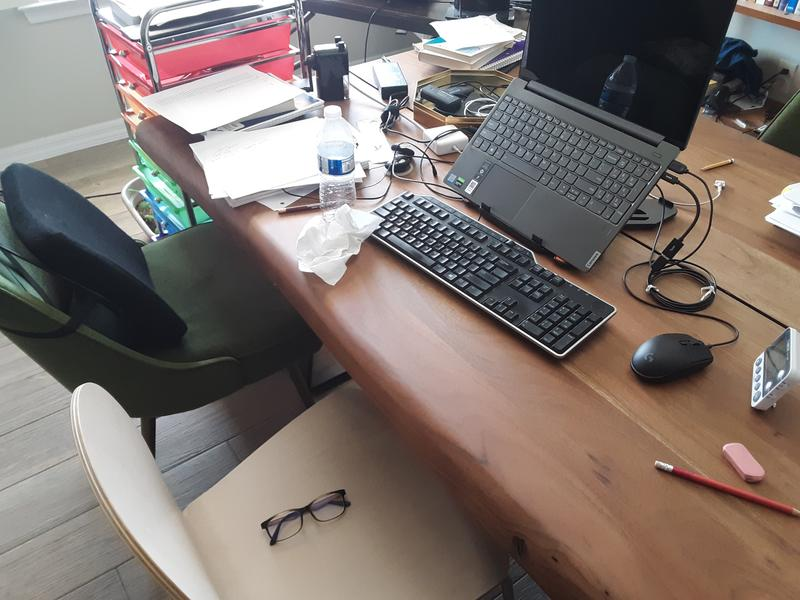glasses: (259, 487, 354, 547)
